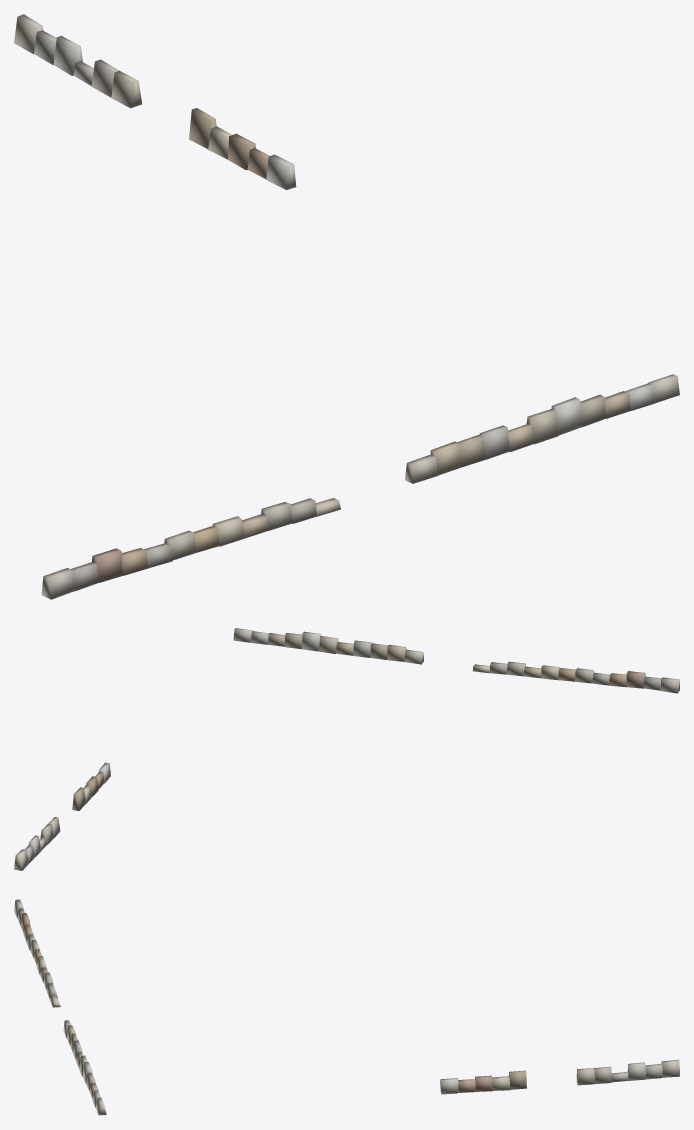
File: farm_13_18_far.glb
The picture shows the model from 3 angles, top to bottom: view 1: azimuth 30°, elevation 25°; view 2: azimuth 150°, elevation 25°; view 3: azimuth 270°, elevation 25°; orthographic projection. The views are drawn at different scales.
Visible parts, largest first — view 1: geometry_0; view 2: geometry_0; view 3: geometry_0.
Part boxes in pixels (bbox=[...]): geometry_0: bbox=[14, 14, 679, 599]; geometry_0: bbox=[14, 628, 679, 870]; geometry_0: bbox=[14, 899, 679, 1115].
Bounding box in the file's own units: 39.76 × 2.48 × 58.26.
